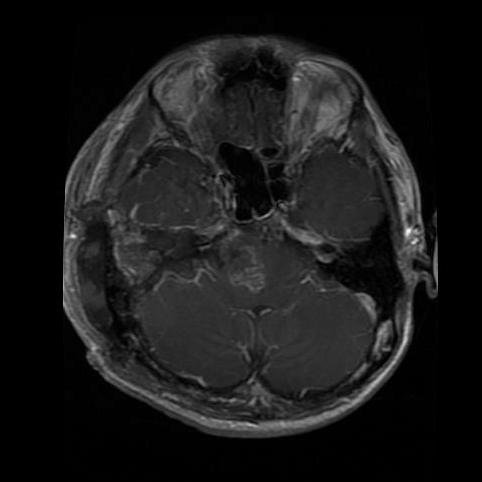Tumour-Glioma: (107, 206, 205, 286)
